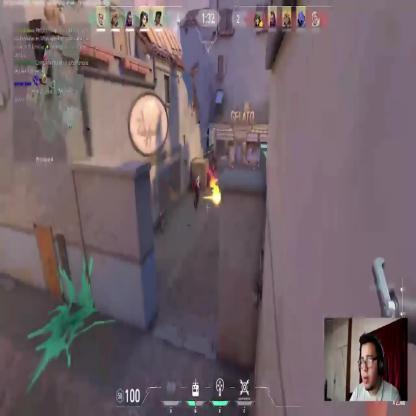enemy: (249, 164, 257, 197), (193, 174, 200, 209), (228, 162, 236, 192), (209, 160, 216, 189)
enemy_head: (211, 162, 214, 170), (197, 174, 200, 180), (231, 164, 234, 170), (252, 166, 254, 170)
